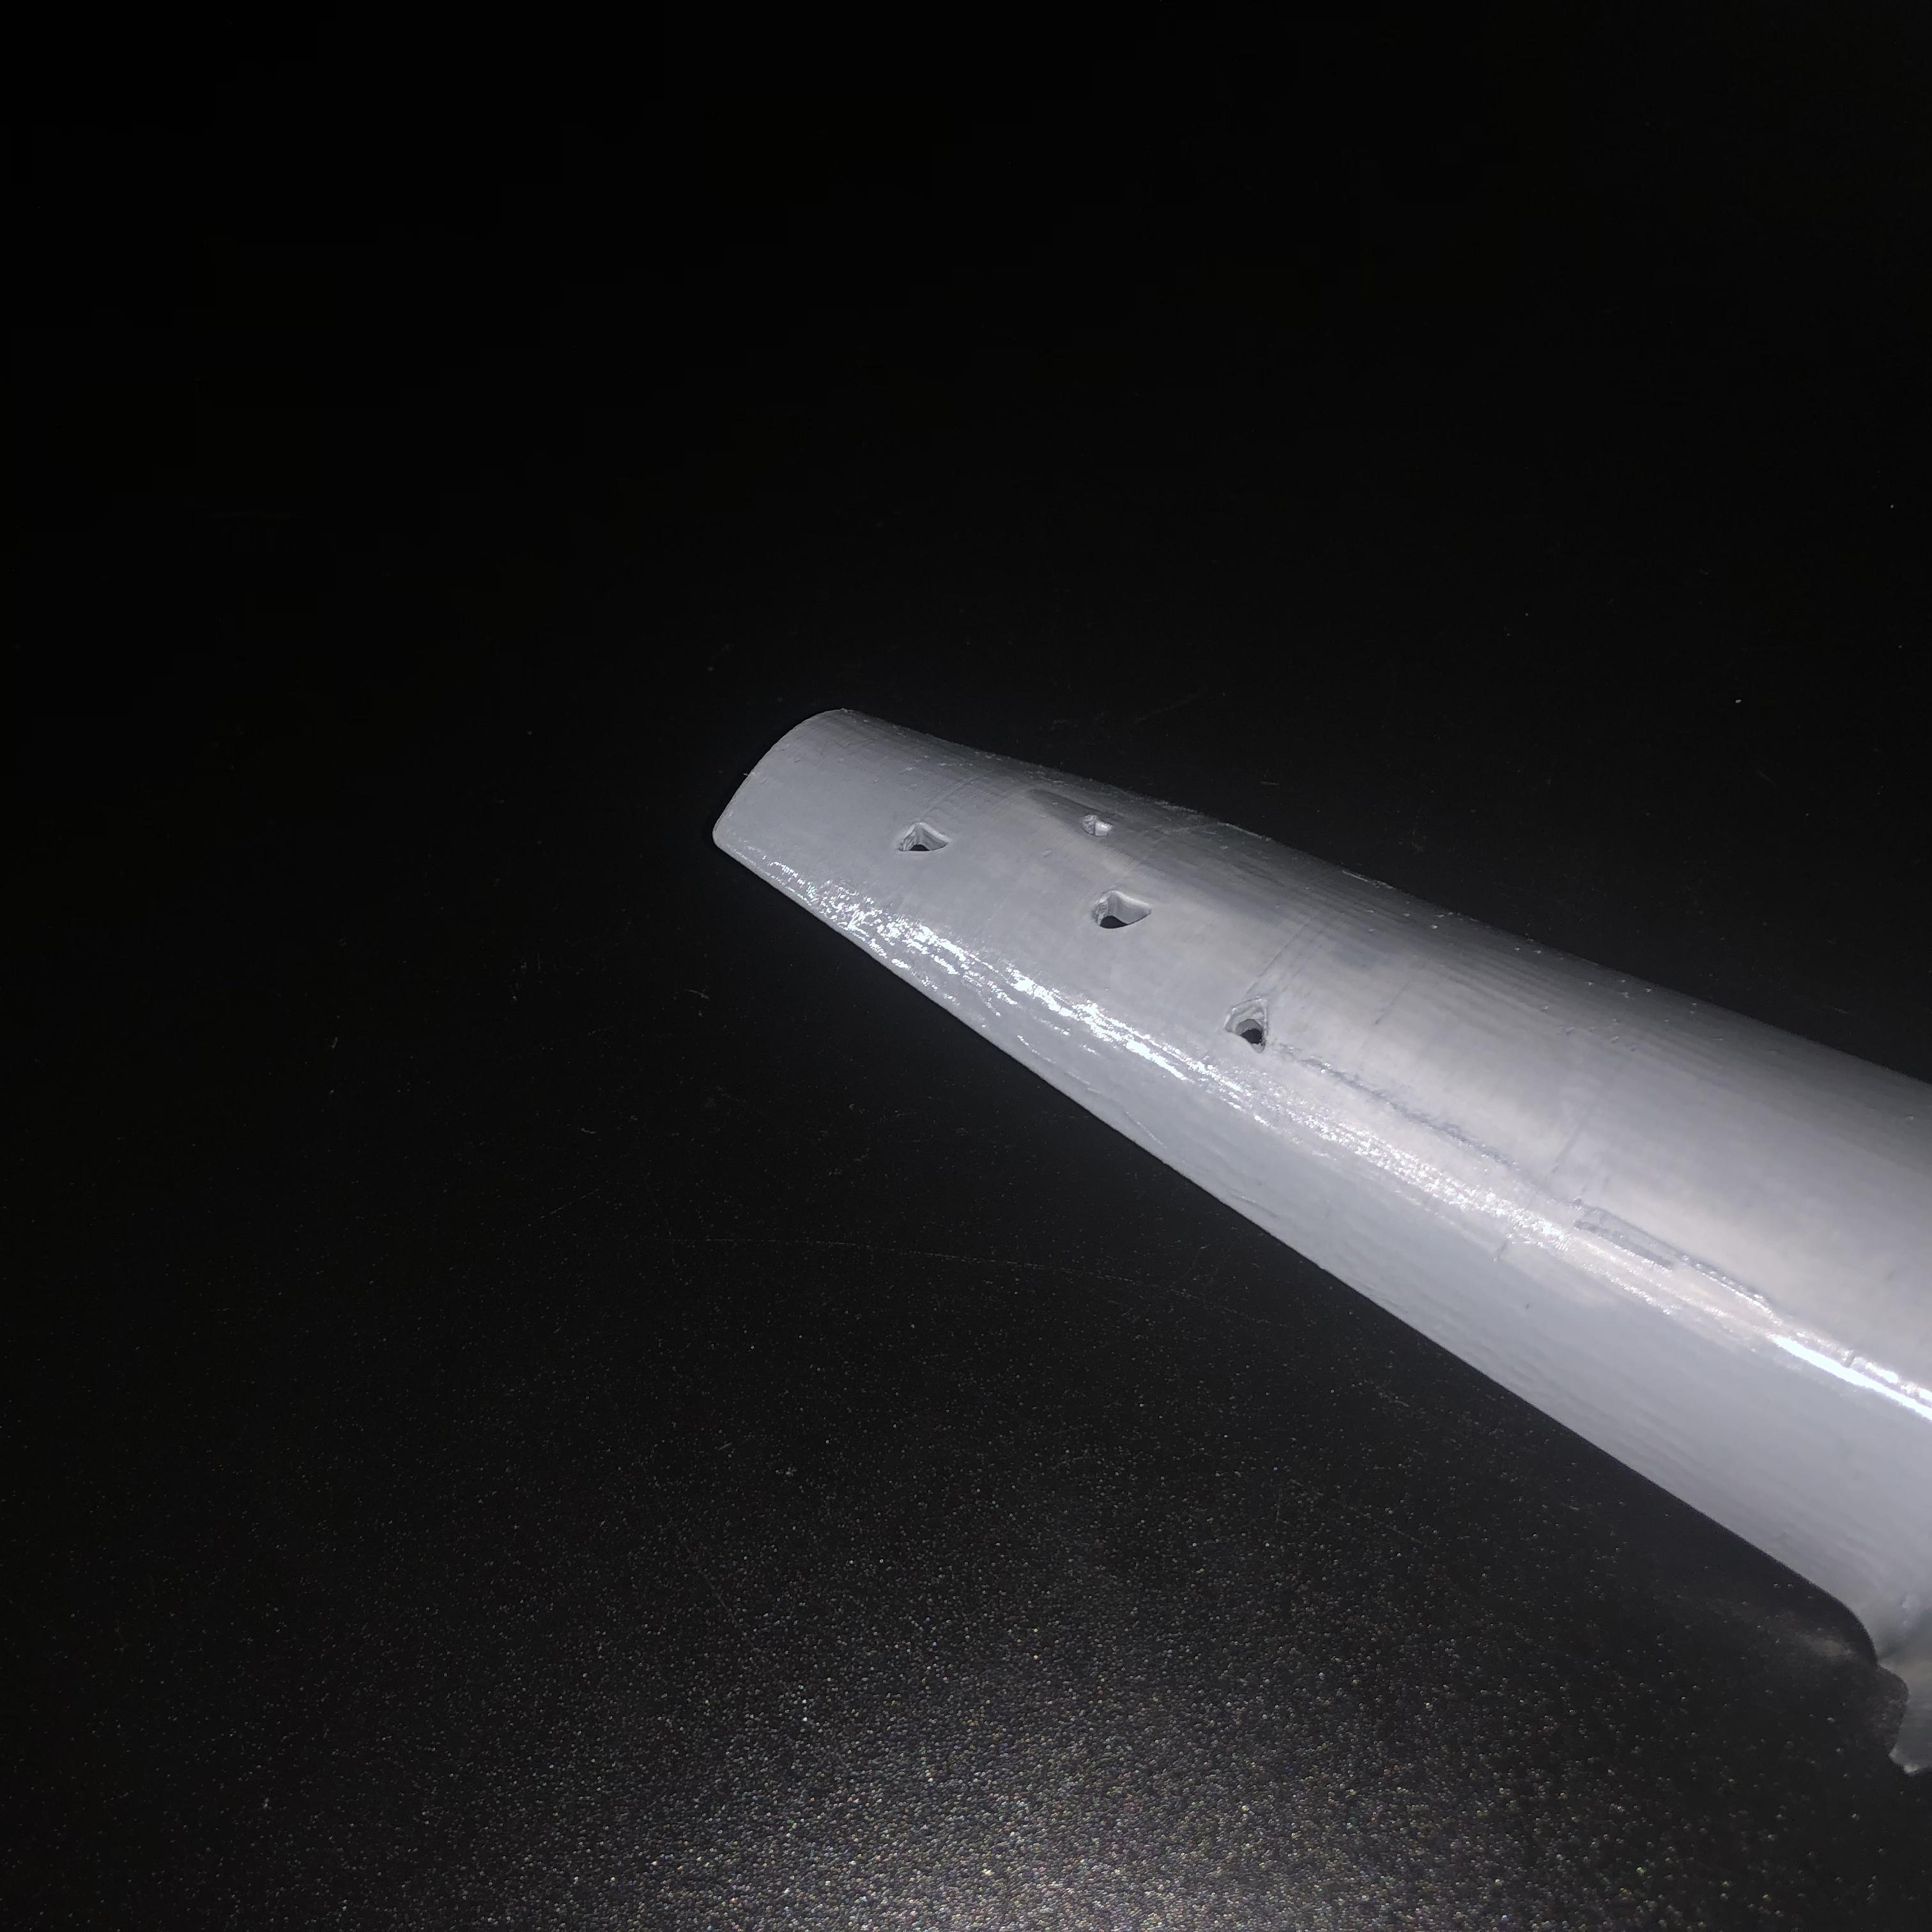breakdown: (899, 809, 1283, 1049)
